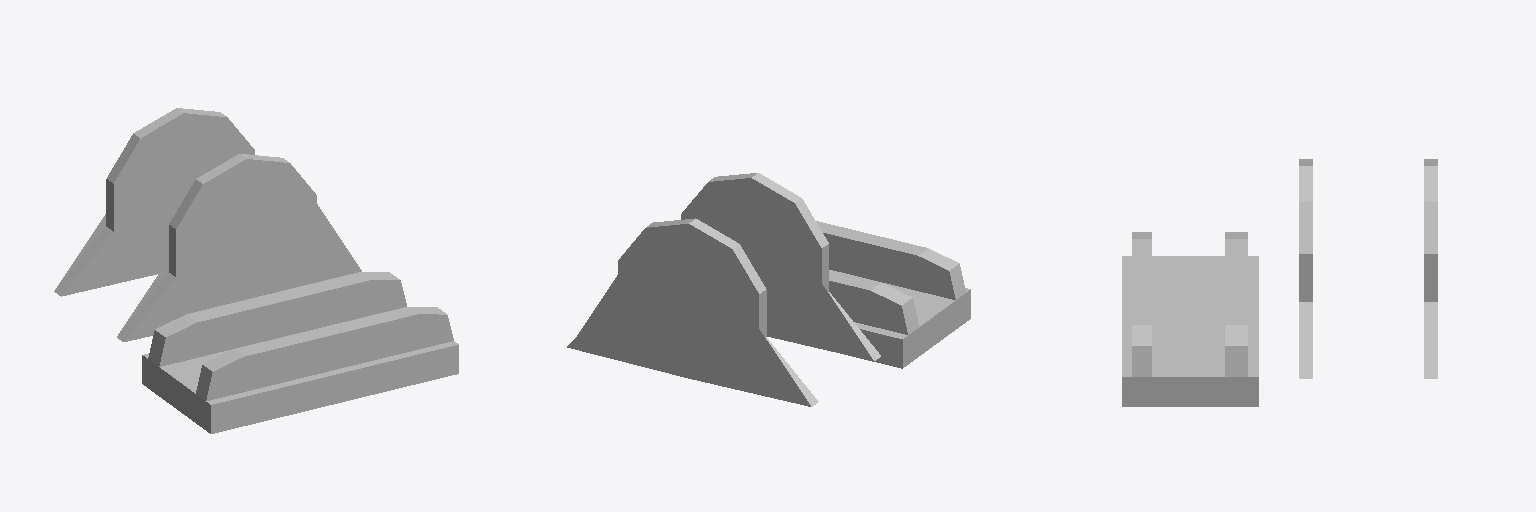
The model's file is Black Box 2.obj.
3 views of the same model, side by side, from view 1: azimuth 30°, elevation 25°; view 2: azimuth 150°, elevation 25°; view 3: azimuth 270°, elevation 25° (orthographic).
Visible parts, largest first — view 1: Cube.001_Cube.002, Cylinder.001_Cylinder.002, Cylinder.002_Cylinder.004; view 2: Cylinder.002_Cylinder.004, Cylinder.001_Cylinder.002, Cube.001_Cube.002; view 3: Cube.001_Cube.002, Cylinder.001_Cylinder.002, Cylinder.002_Cylinder.004.
Boxes of the visible parts, <box> form: Cube.001_Cube.002: <box>142,272,458,433</box>; Cylinder.001_Cylinder.002: <box>117,154,361,341</box>; Cylinder.002_Cylinder.004: <box>54,108,254,296</box>; Cylinder.002_Cylinder.004: <box>567,218,818,406</box>; Cylinder.001_Cylinder.002: <box>681,173,880,360</box>; Cube.001_Cube.002: <box>816,221,970,368</box>; Cube.001_Cube.002: <box>1122,232,1258,406</box>; Cylinder.001_Cylinder.002: <box>1299,159,1312,378</box>; Cylinder.002_Cylinder.004: <box>1424,159,1437,378</box>.
Bounding box in the file's own units: 2.19 × 1.52 × 2.42.